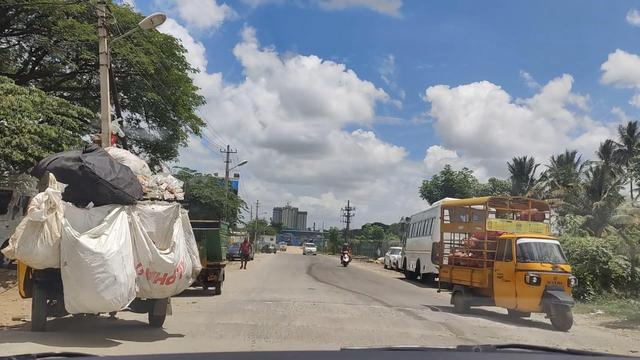HMV: (28, 158, 202, 332), (442, 199, 585, 337)
RoadDamages: (229, 299, 430, 346)
